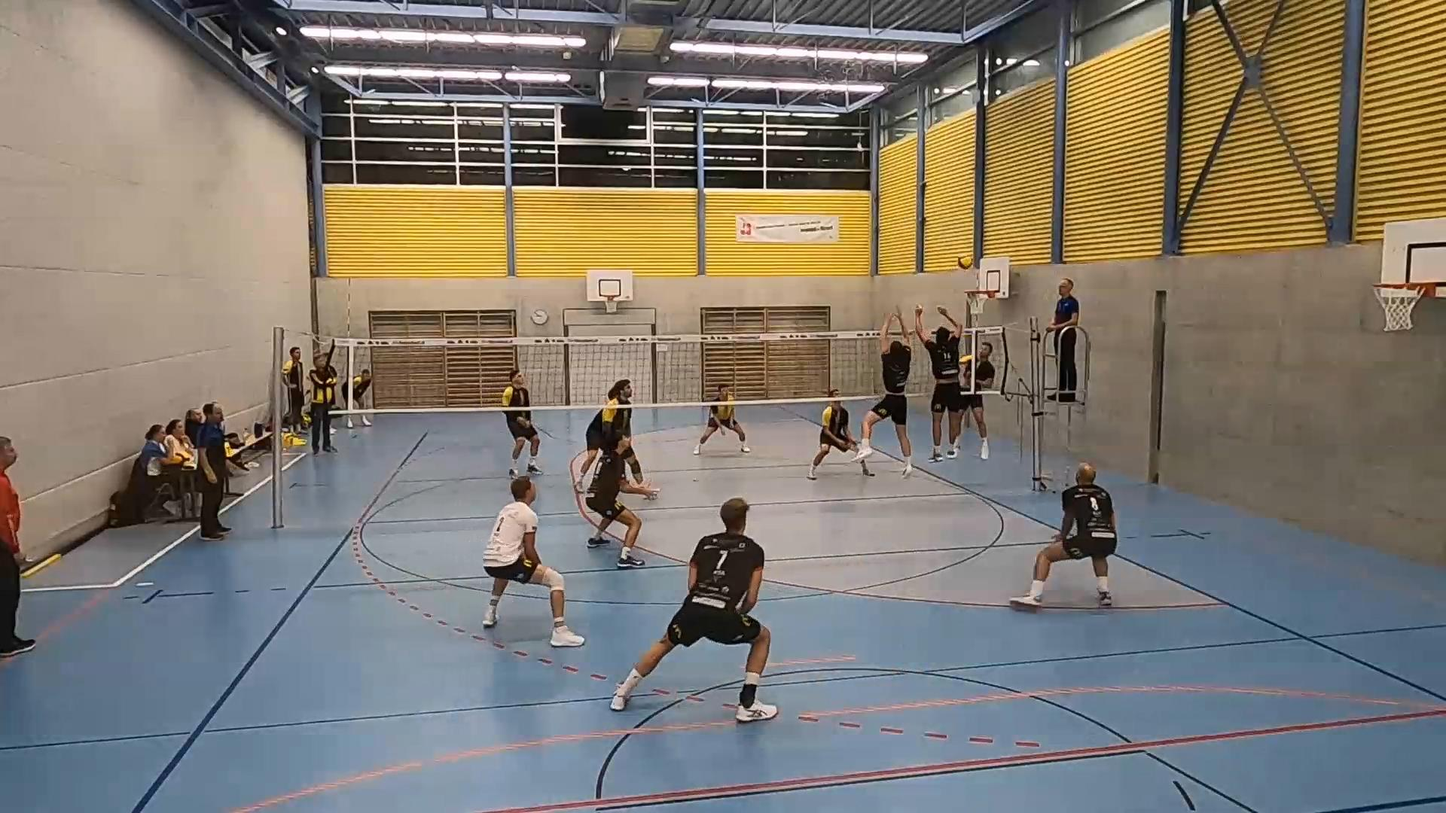Attack: (953, 330, 1005, 470)
Block: (916, 302, 972, 473), (861, 305, 914, 471)
Player: (611, 498, 777, 722), (483, 477, 584, 647), (1010, 463, 1117, 606), (853, 313, 912, 477), (585, 437, 657, 568), (577, 379, 631, 491), (807, 389, 857, 480), (502, 370, 541, 477), (693, 384, 750, 455)
ball: (954, 258, 973, 270)
